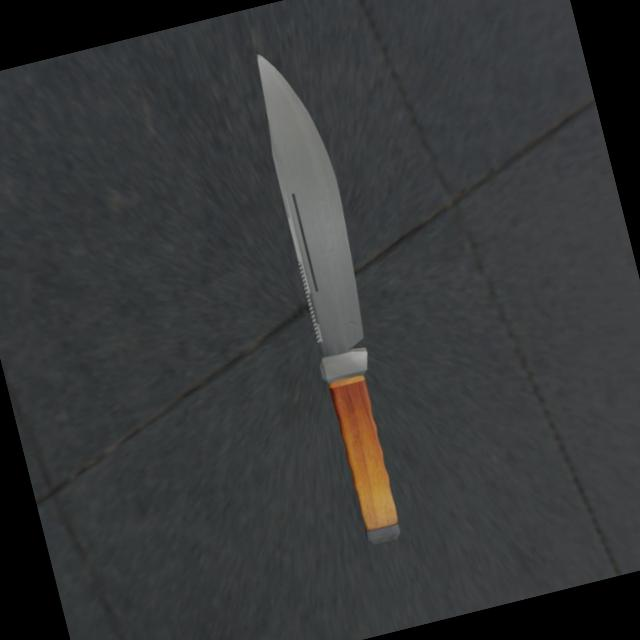knife: (316, 346, 410, 552)
